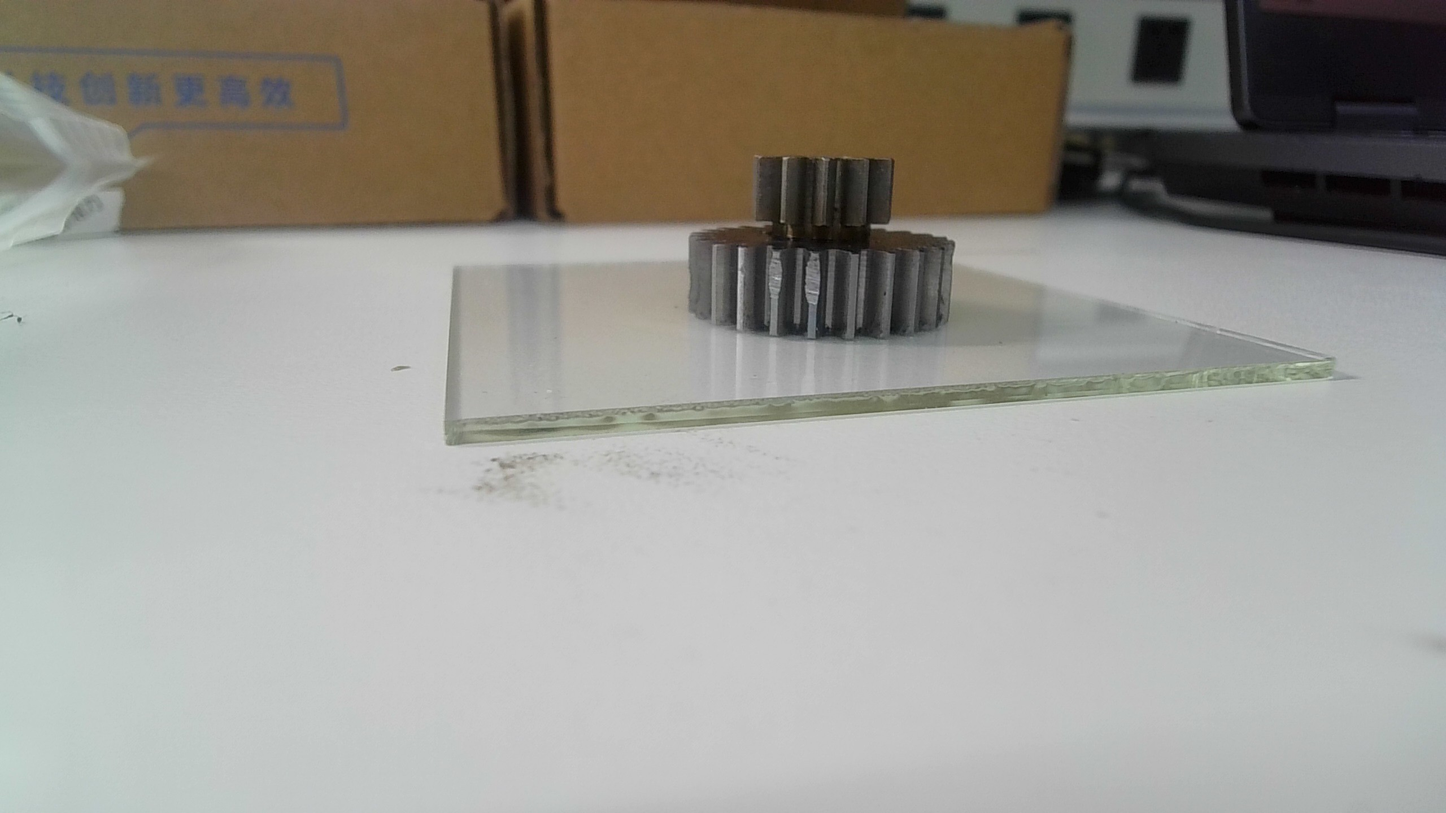gear: (680, 152, 959, 343)
